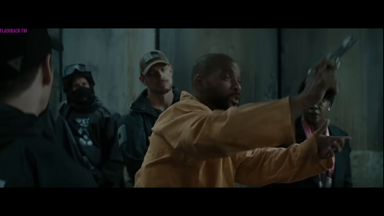firearm: (300, 33, 359, 84), (58, 119, 87, 167)
